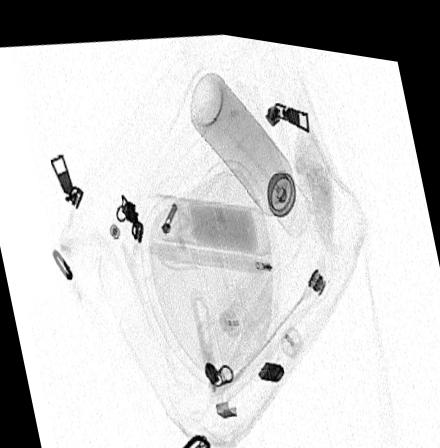Sprayer: (190, 64, 310, 225)
